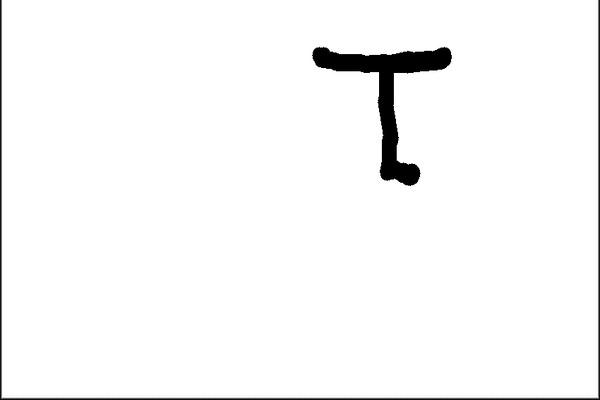T: (299, 38, 456, 189)
